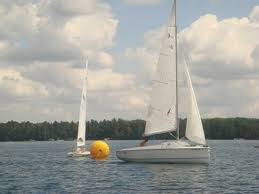buoy: (89, 140, 110, 160)
